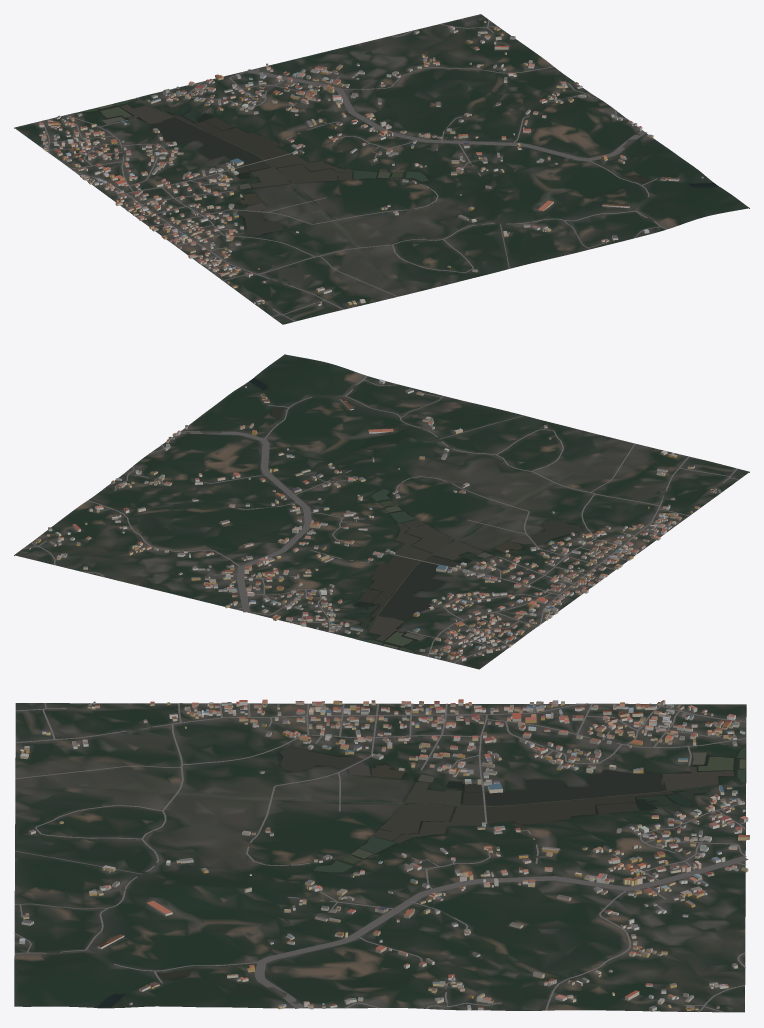
The picture shows the model from 3 angles, top to bottom: view 1: azimuth 30°, elevation 25°; view 2: azimuth 150°, elevation 25°; view 3: azimuth 270°, elevation 25°; orthographic projection. The views are drawn at different scales.
Visible parts, largest first — view 1: ground, buildings, water, roads; view 2: ground, buildings, water, roads; view 3: ground, buildings, water, roads.
Boxes of the visible parts, left/top/right/bottom form: ground: left=14, top=14, right=749, bottom=324; buildings: left=39, top=20, right=703, bottom=306; water: left=80, top=97, right=718, bottom=276; roads: left=39, top=19, right=666, bottom=321; ground: left=14, top=354, right=749, bottom=669; buildings: left=28, top=379, right=721, bottom=661; water: left=249, top=377, right=600, bottom=653; roads: left=22, top=376, right=739, bottom=663; ground: left=14, top=703, right=746, bottom=1012; buildings: left=19, top=699, right=749, bottom=1011; water: left=84, top=746, right=745, bottom=1007; roads: left=14, top=703, right=748, bottom=1012.
Bounding box in the file's own units: 1410 × 22.3 × 1412.
